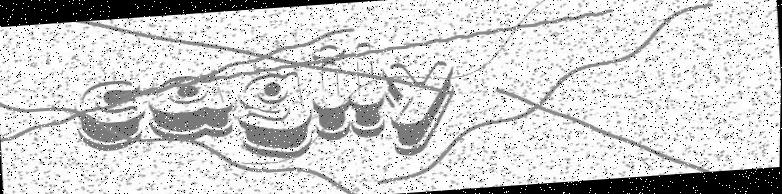a: (145, 71, 236, 144)
c: (72, 78, 147, 154)
g: (234, 70, 316, 163)
i: (307, 42, 353, 142)
l: (347, 40, 389, 140)
y: (382, 59, 459, 158)
